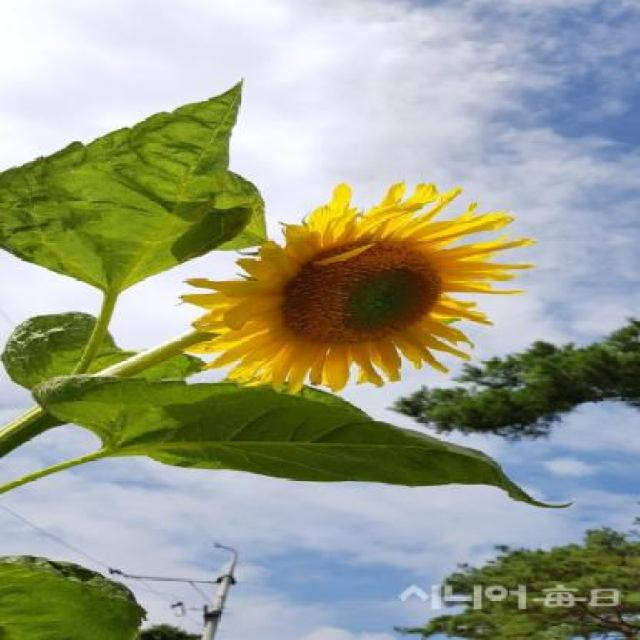sunflower: (152, 166, 558, 420)
